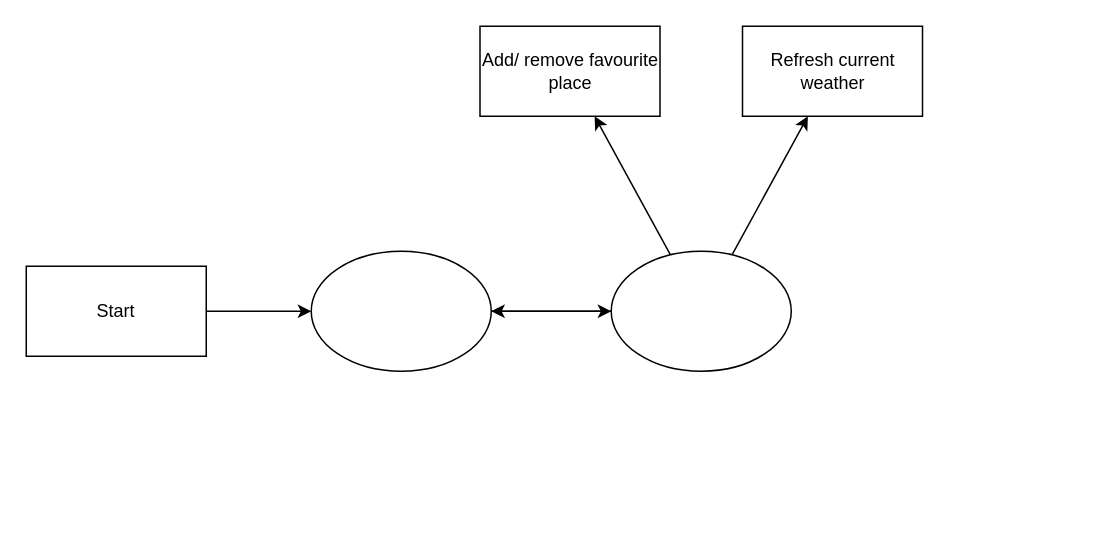
Some shapes in this 1100 by 545 pixel diagram are drawn without their labels. The shapes that lost their labels are listed below. From the top down, each one's centre as x and y in pixels, then its label:
At [400,310]: "Start Screen".
At [700,310]: "Weather Display Screen".
